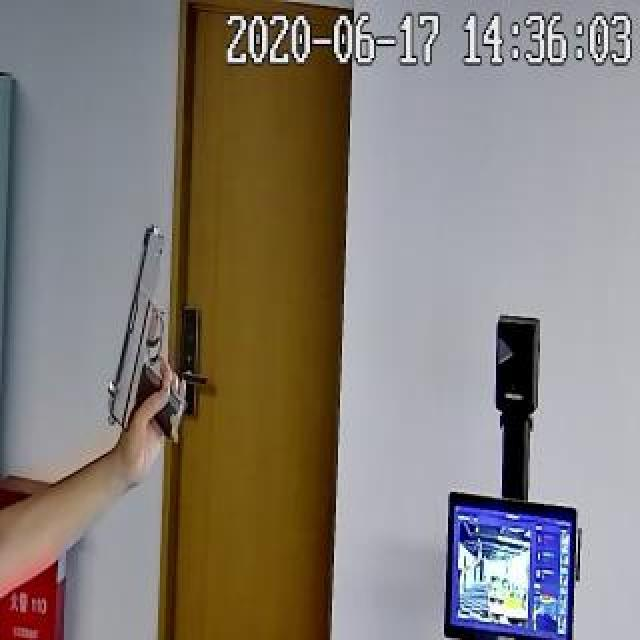Guns: (89, 202, 214, 484)
